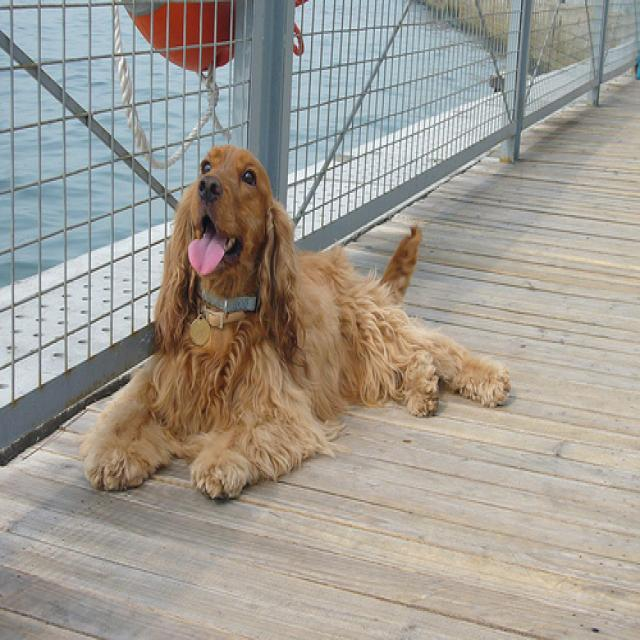dog: (155, 142, 294, 355)
